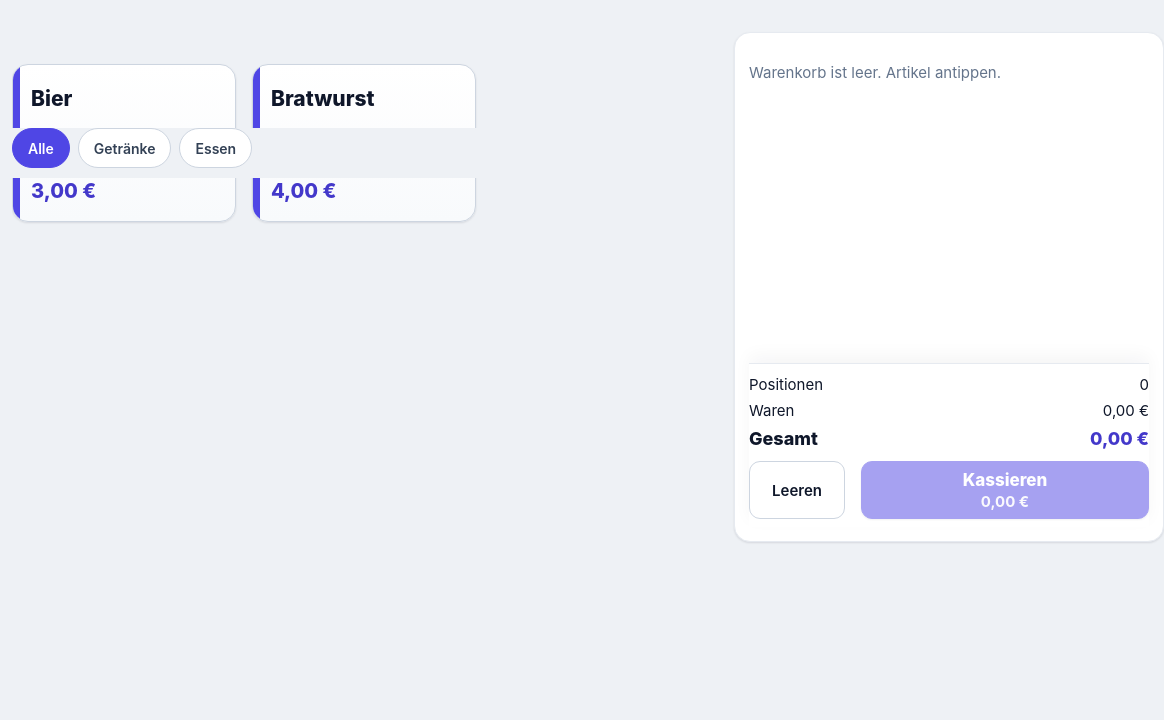
Test: Verkauf Component › sollte Artikel korrekt nach Kategorien filtern
The width and height of the screenshot is (1164, 720).
expect the text "Bier" is shown: met, box [31, 86, 72, 111]
expect the text "Bratwurst" is shown: met, box [271, 86, 374, 111]
What coordinates should you click on to do the following:
click the button "Essen"
I would click on:
 (216, 148)
Its box is [180, 128, 252, 168].
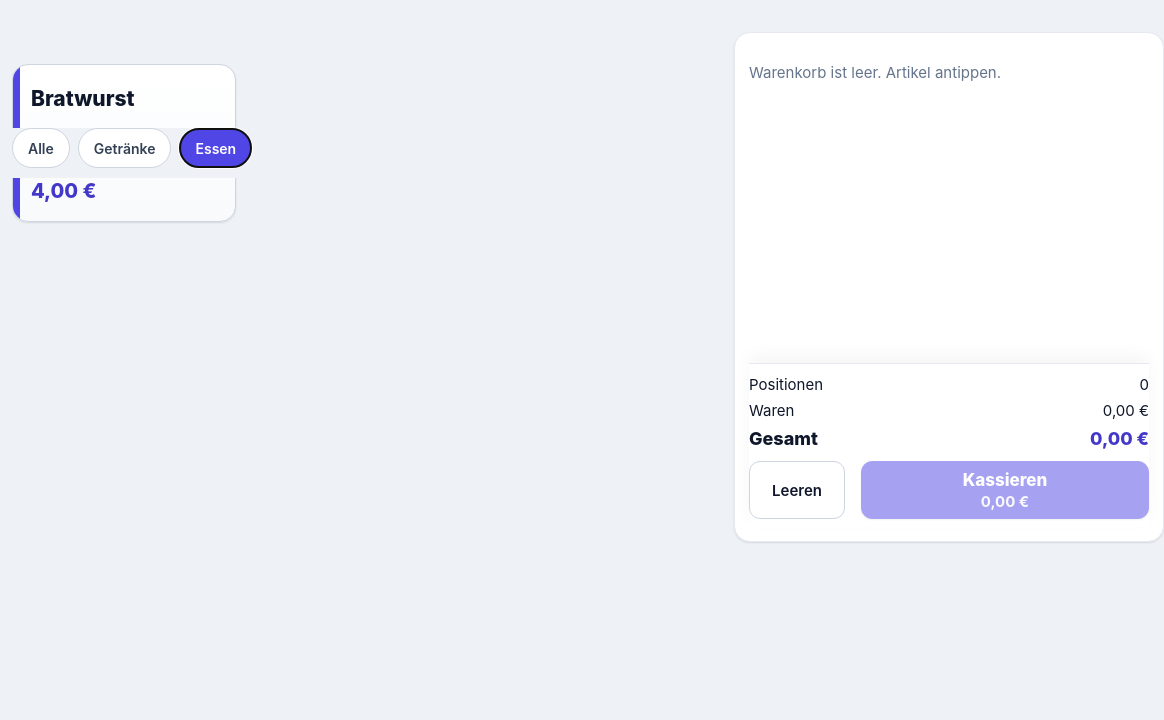
expect the text "Bratwurst" is shown: met, box [31, 86, 134, 111]
expect the button "Bier" is gone: met
